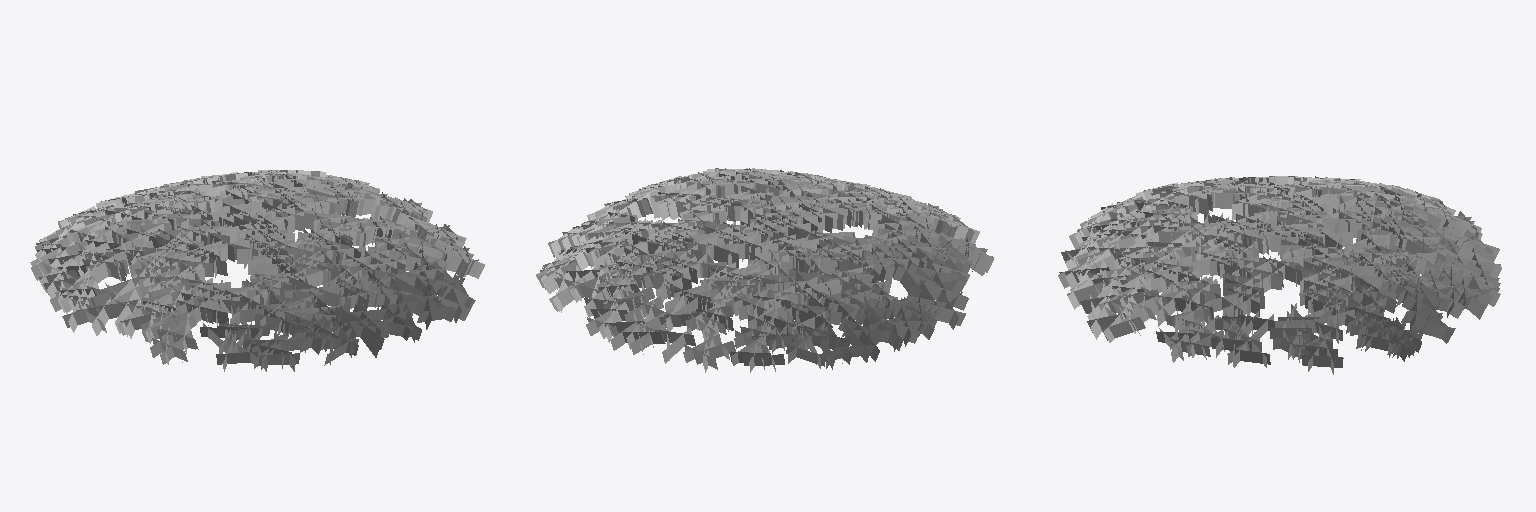
Rendered from sm_grass_terrace2x2.OBJ.
The picture shows the model from 3 angles: view 1: azimuth 30°, elevation 25°; view 2: azimuth 150°, elevation 25°; view 3: azimuth 270°, elevation 25°; orthographic projection.
Parts seen in each view (by area): view 1: ZBrushPolyMesh3D; view 2: ZBrushPolyMesh3D; view 3: ZBrushPolyMesh3D.
Boxes of the visible parts, <box> form: ZBrushPolyMesh3D: <box>30,170,484,371</box>; ZBrushPolyMesh3D: <box>536,168,993,372</box>; ZBrushPolyMesh3D: <box>1058,176,1501,374</box>.
Size of the model in its own units: 2.83 by 0.401 by 2.82.